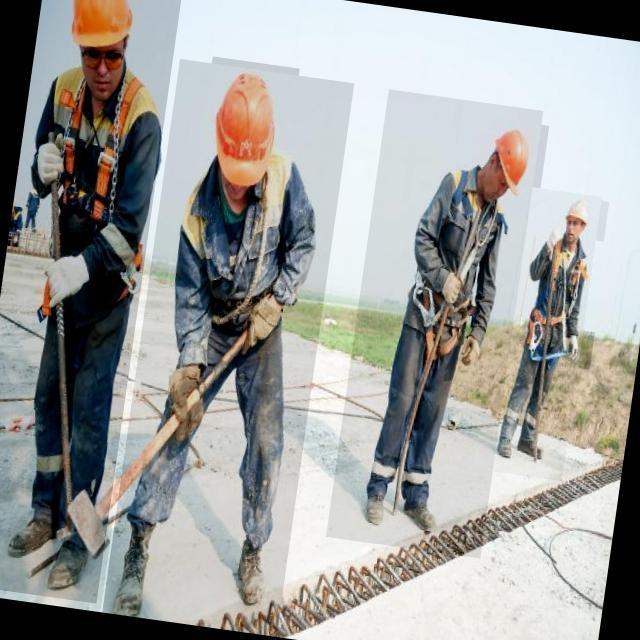Gloves: (148, 347, 221, 457), (36, 246, 97, 325), (237, 284, 295, 364), (26, 132, 76, 205), (434, 260, 472, 325), (447, 328, 496, 376), (559, 328, 595, 370), (543, 224, 574, 260)
Helmet: (195, 57, 300, 196), (56, 0, 150, 66), (475, 117, 549, 198), (559, 196, 609, 242)
Person: (94, 44, 334, 640), (0, 0, 169, 621), (346, 99, 564, 560), (477, 174, 624, 495)
Safety Boot: (101, 514, 175, 621), (35, 509, 102, 611), (0, 480, 69, 574), (222, 524, 287, 621), (387, 478, 451, 537), (353, 469, 400, 545), (483, 421, 526, 477), (512, 424, 560, 473)
no-vest: (169, 154, 313, 358), (42, 72, 162, 278), (398, 161, 510, 334), (528, 234, 598, 335)
